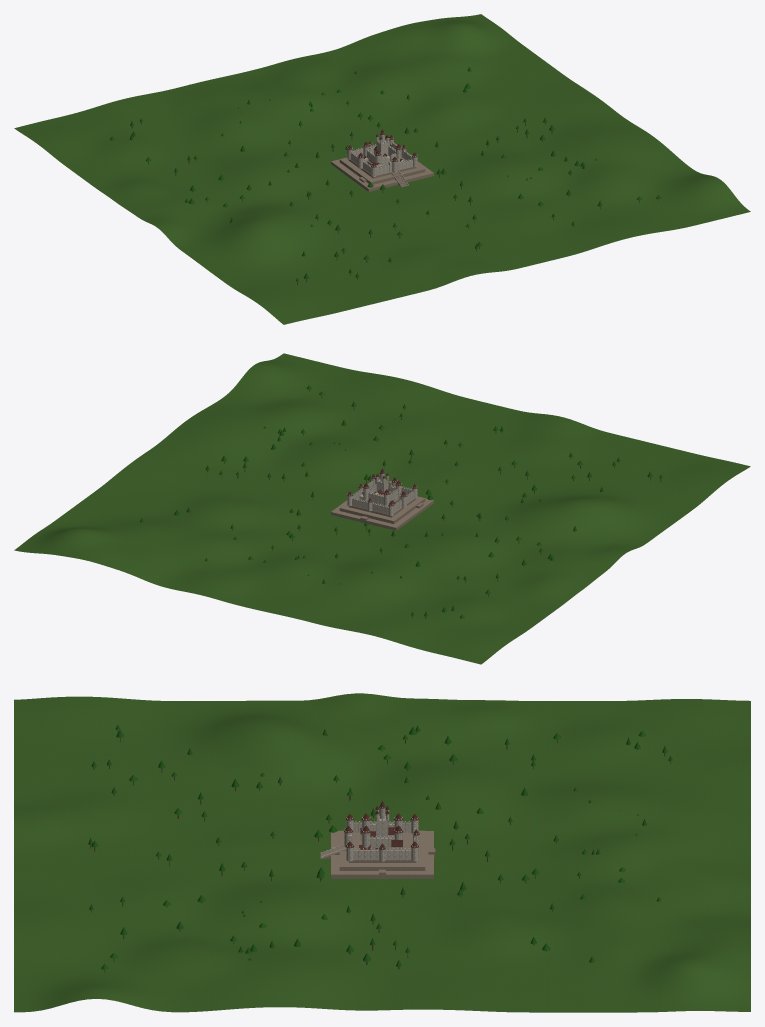
The model's file is castle.glb.
3 renders of one model, top to bottom at view 1: azimuth 30°, elevation 25°; view 2: azimuth 150°, elevation 25°; view 3: azimuth 270°, elevation 25°, orthographic. The views are drawn at different scales.
Visible parts, largest first — view 1: Castle_grass, Castle_leaves, Castle_stone, Castle_rock; view 2: Castle_grass, Castle_leaves, Castle_stone, Castle_rock; view 3: Castle_grass, Castle_leaves, Castle_rock, Castle_stone, Castle_roof.
Boxes of the visible parts, x1,y1,x2,y2 form: Castle_grass: [14, 14, 750, 324]; Castle_leaves: [110, 44, 661, 281]; Castle_stone: [347, 133, 417, 187]; Castle_rock: [331, 155, 433, 191]; Castle_grass: [14, 353, 750, 664]; Castle_leaves: [140, 385, 662, 618]; Castle_stone: [347, 472, 417, 515]; Castle_rock: [331, 496, 433, 530]; Castle_grass: [14, 693, 750, 1012]; Castle_leaves: [88, 725, 672, 969]; Castle_rock: [320, 830, 435, 878]; Castle_stone: [320, 807, 419, 861]; Castle_roof: [344, 801, 419, 849].
Size of the model in its own units: 500 by 42 by 500.
6 materials, 6 textured.
